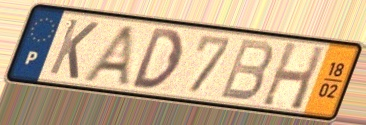7: (188, 32, 234, 96)
A: (79, 24, 137, 89)
B: (216, 36, 276, 103)
D: (130, 25, 186, 91)
H: (258, 39, 328, 113)
K: (46, 16, 102, 82)
